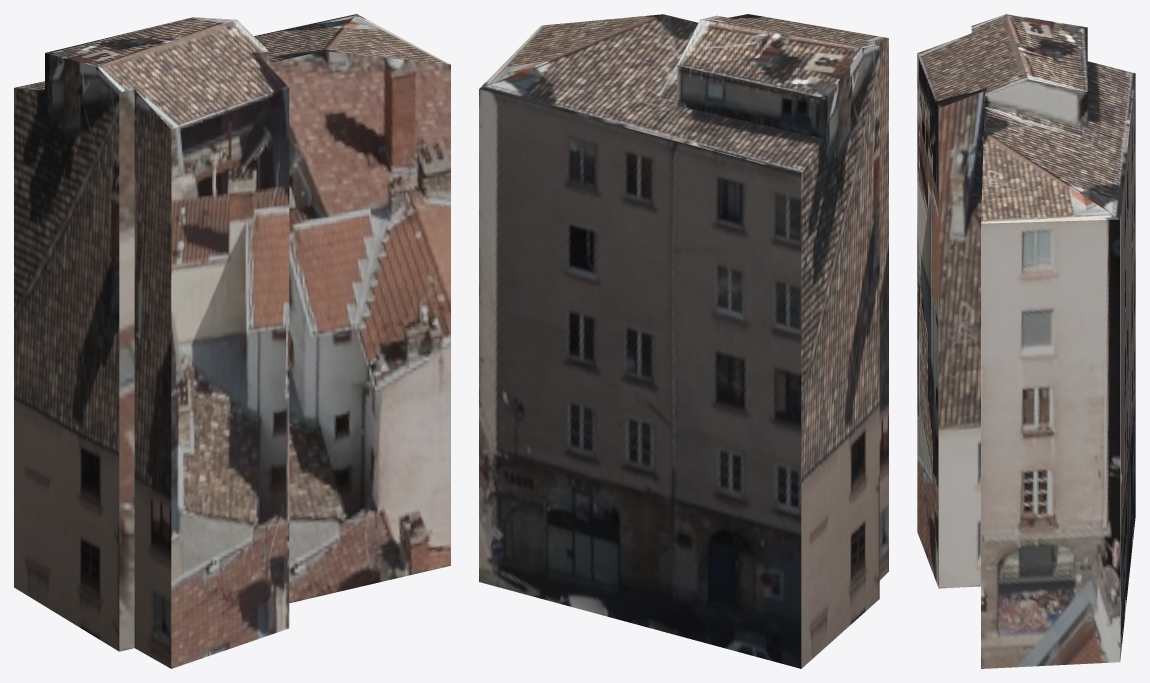
The picture shows the model from 3 angles, left to right: view 1: azimuth 30°, elevation 25°; view 2: azimuth 150°, elevation 25°; view 3: azimuth 270°, elevation 25°; orthographic projection. The views are drawn at different scales.
Parts seen in each view (by area): view 1: Z_UP; view 2: Z_UP; view 3: Z_UP.
Part boxes in pixels (left/top/right/bottom): Z_UP: left=14, top=14, right=450, bottom=668; Z_UP: left=479, top=14, right=888, bottom=668; Z_UP: left=917, top=14, right=1135, bottom=668.
Bounding box in the file's own units: 15.81 × 24.72 × 9.61.
Materials: 2 (1 with a texture image).
